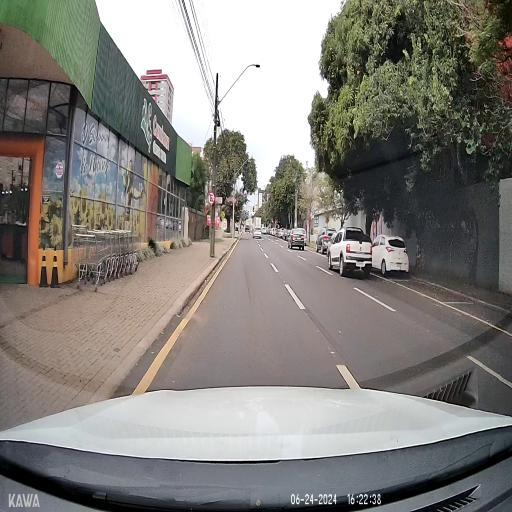A-32b: (221, 211, 225, 219)
R-6a: (208, 192, 214, 206)
